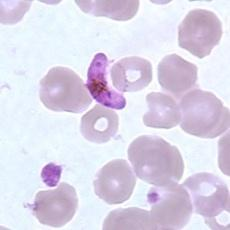Infected: (88, 52, 127, 109)
Uninfected: (127, 133, 183, 187), (179, 7, 222, 59), (31, 181, 78, 227), (147, 181, 192, 229), (93, 159, 137, 204), (184, 171, 229, 215), (38, 66, 82, 111), (179, 90, 221, 134), (158, 53, 198, 95), (111, 55, 153, 92), (142, 91, 181, 130), (82, 106, 121, 143)
